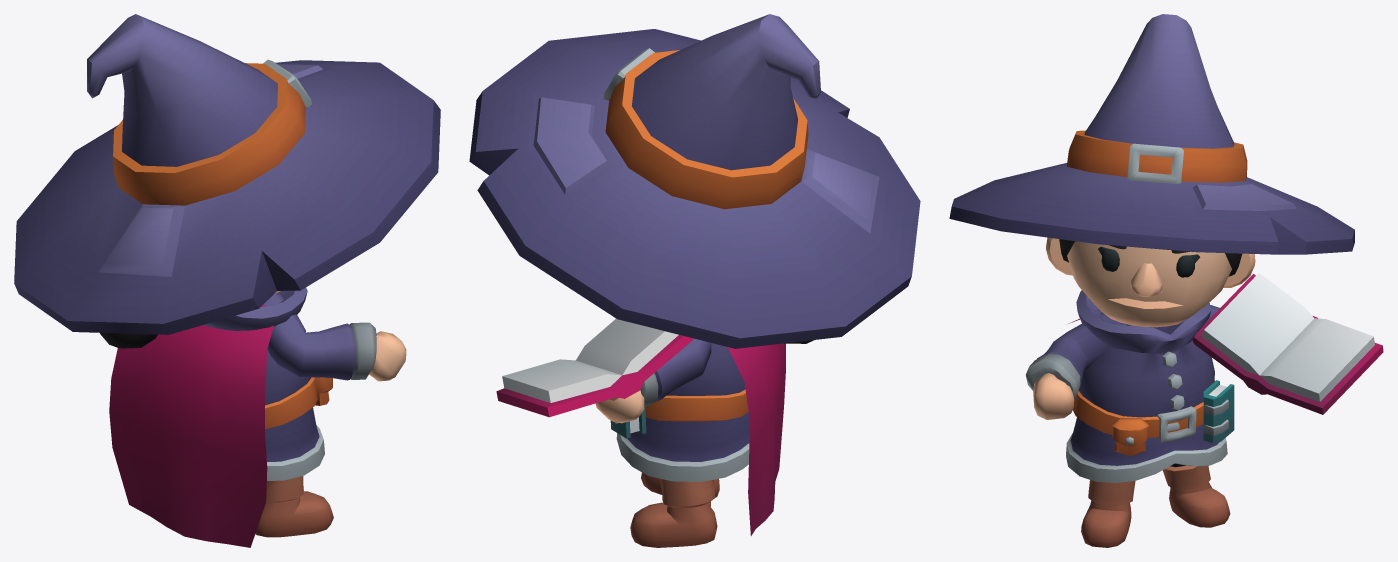
The model's file is scribe.glb.
3 views of the same model, side by side, from view 1: azimuth 30°, elevation 25°; view 2: azimuth 150°, elevation 25°; view 3: azimuth 270°, elevation 25° (orthographic). The views are drawn at different scales.
Visible parts, largest first — view 1: scribe; view 2: scribe; view 3: scribe.
Boxes of the visible parts, <box> form: scribe: <box>14,14,440,547</box>; scribe: <box>469,14,920,547</box>; scribe: <box>949,14,1383,547</box>.
Size of the model in its own units: 2.02 by 2.67 by 2.25.
Materials: 1 (1 with a texture image).
